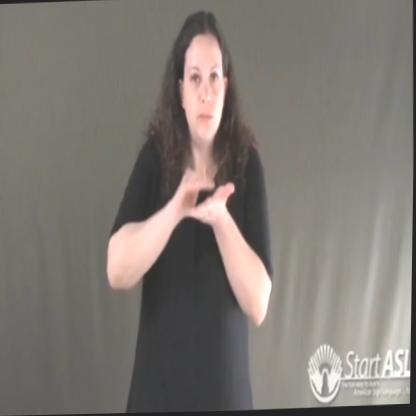ExcuseMe: (165, 152, 243, 245)
